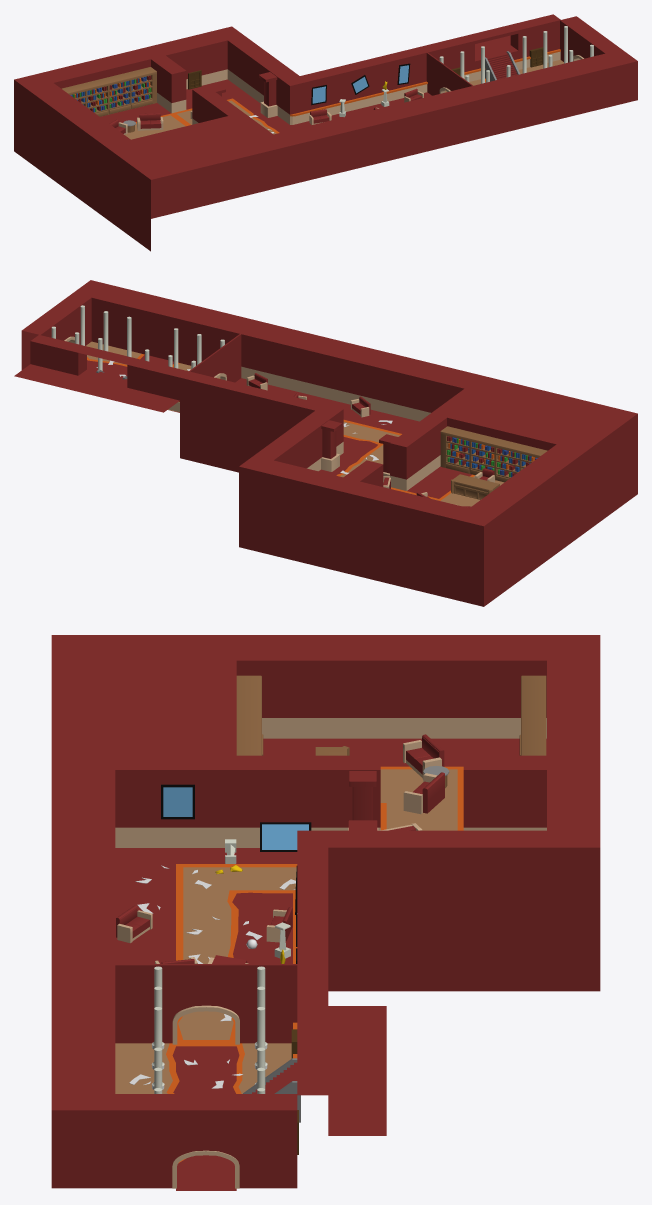
Rendered from Scene03_House.fbx.
3 renders of one model, top to bottom at view 1: azimuth 30°, elevation 25°; view 2: azimuth 150°, elevation 25°; view 3: azimuth 270°, elevation 25°, orthographic. The views are drawn at different scales.
Parts seen in each view (by area): view 1: Plane.001, Plane.004, Cube.030, Cylinder.006, Cube.018, Cube.017, Plane.005, Plane.003, Cube.023; view 2: Plane.001, Plane.004, Cube.022, Plane.005, Cylinder.006, Cube.018, Cube.028; view 3: Plane.001, Plane.004, Plane.005, Cube.017, Cylinder.006, Cube.022, Cube.030, Cube.018, Cube.023, Cube.027, Cube.025, Plane.008.
Part boxes in pixels (box(x1,y1,x2,y2)): Plane.001: box(14, 14, 637, 251); Plane.004: box(100, 60, 563, 139); Cube.030: box(62, 67, 156, 116); Cylinder.006: box(439, 26, 593, 83); Cube.018: box(209, 72, 277, 117); Cube.017: box(311, 63, 410, 105); Plane.005: box(475, 35, 517, 61); Plane.003: box(487, 53, 517, 79); Cube.023: box(137, 113, 163, 130); Plane.001: box(21, 280, 637, 606); Plane.004: box(86, 341, 504, 506); Cube.022: box(440, 426, 547, 482); Plane.005: box(14, 364, 179, 412); Cylinder.006: box(51, 305, 224, 378); Cube.018: box(321, 420, 397, 476); Cube.028: box(451, 474, 499, 499); Plane.001: box(51, 635, 600, 1188); Plane.004: box(115, 738, 546, 1190); Plane.005: box(328, 1006, 386, 1135); Cube.017: box(161, 784, 311, 963); Cylinder.006: box(151, 966, 267, 1093); Cube.022: box(236, 675, 263, 755); Cube.030: box(519, 675, 546, 755); Cube.018: box(348, 771, 378, 830); Cube.023: box(403, 772, 444, 814); Cube.027: box(403, 734, 444, 779); Cube.025: box(116, 905, 152, 943); Plane.008: box(129, 865, 295, 1088).
Bounding box in the file's own units: 10378 × 1468 × 5032.
